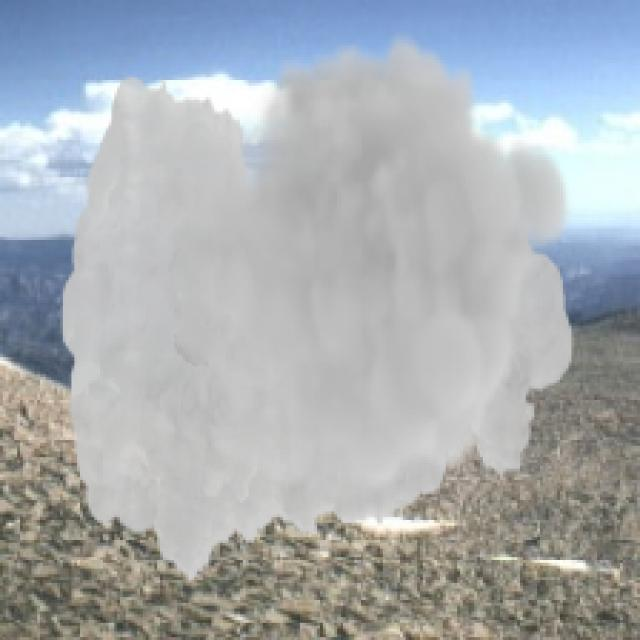smoke: (60, 31, 574, 586)
